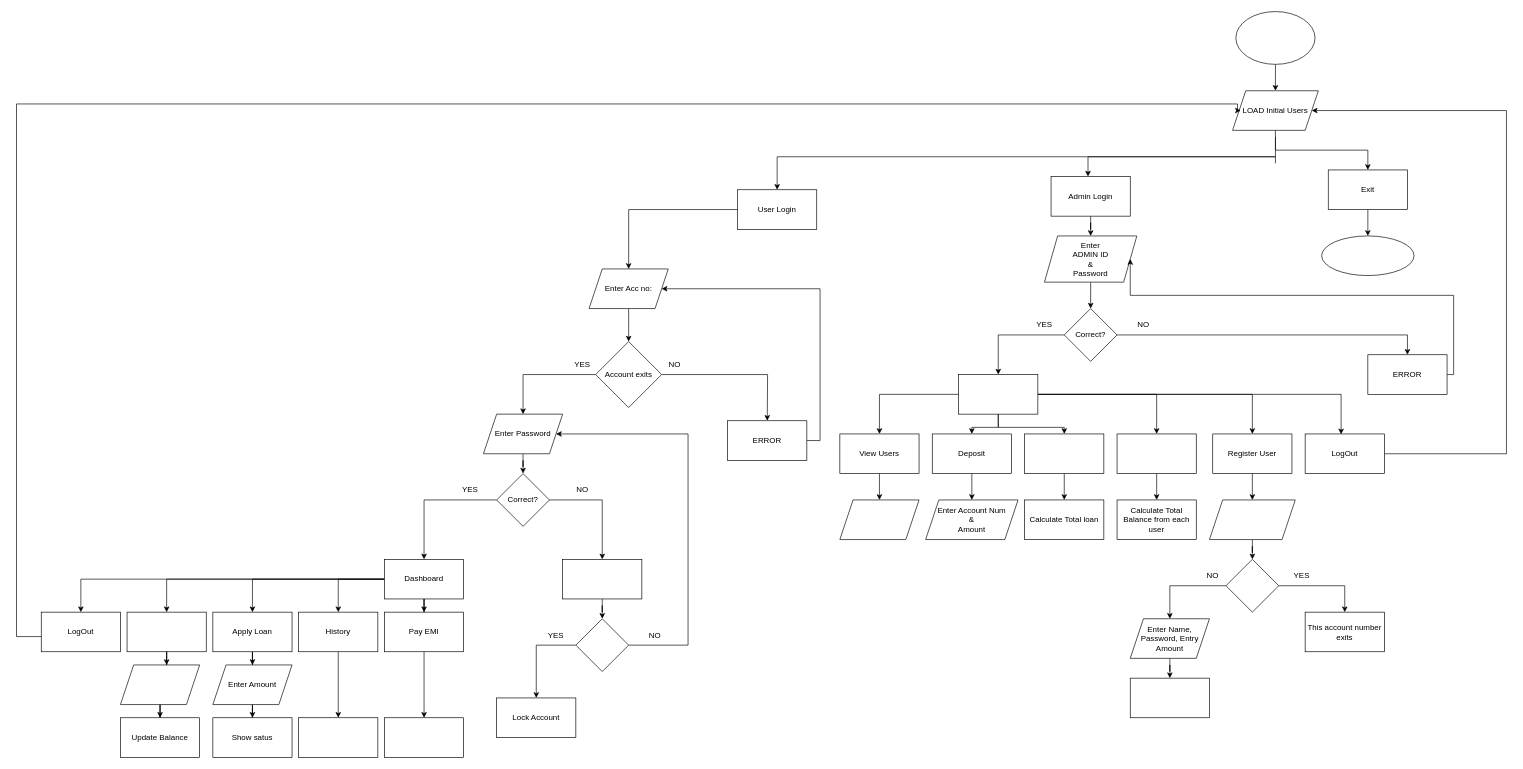
Image size: 1523x769. Some labels were removed from this diagram. The box of each missing label's shape, as (x1, y1, x2, y2) in pixels:
Account made: (1130, 677, 1209, 718)
Admin Panel: (958, 374, 1038, 414)
Already Exists?: (1225, 559, 1279, 612)
END: (1321, 235, 1414, 276)
Enter account num: (1209, 499, 1295, 540)
Output Users from database: (839, 499, 919, 540)
Pay EMI, Updated balance: (384, 717, 464, 757)
START: (1235, 11, 1315, 64)
Take amount: (120, 664, 200, 705)
Total Balance: (1116, 433, 1196, 474)
Total Loan: (1024, 433, 1104, 474)
Transaction History: (298, 717, 378, 757)
Withdraw: (126, 611, 206, 652)
Wrong Attemps+: (562, 559, 642, 599)
Wrong Attempts = 3 ?: (575, 618, 629, 672)
